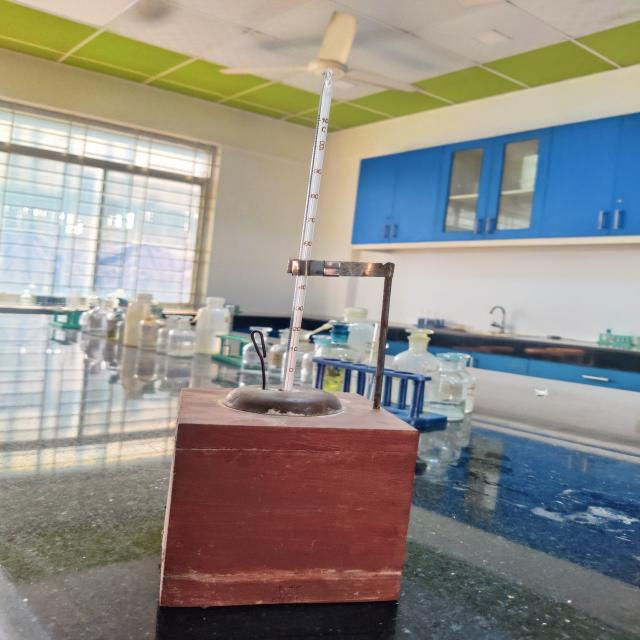Calorimeter: (114, 37, 494, 640)
